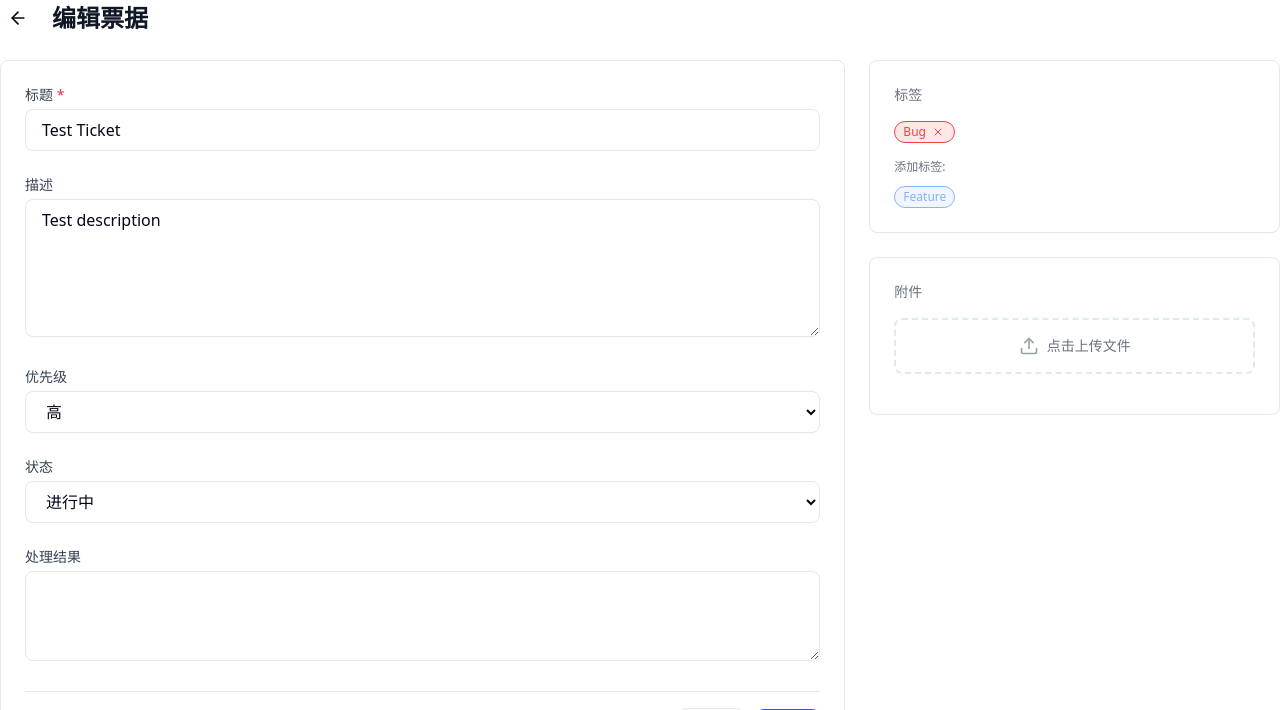
Test: TicketEditPage › enables submit when resolution is provided for completed status
The image size is (1280, 710).
Expected: the field showing "Test Ticket" is shown, 25,109 -> 820,151
Select "已完成" in the dropdown labelled "状态": {"x": 423, "y": 502} 25,481 -> 820,523
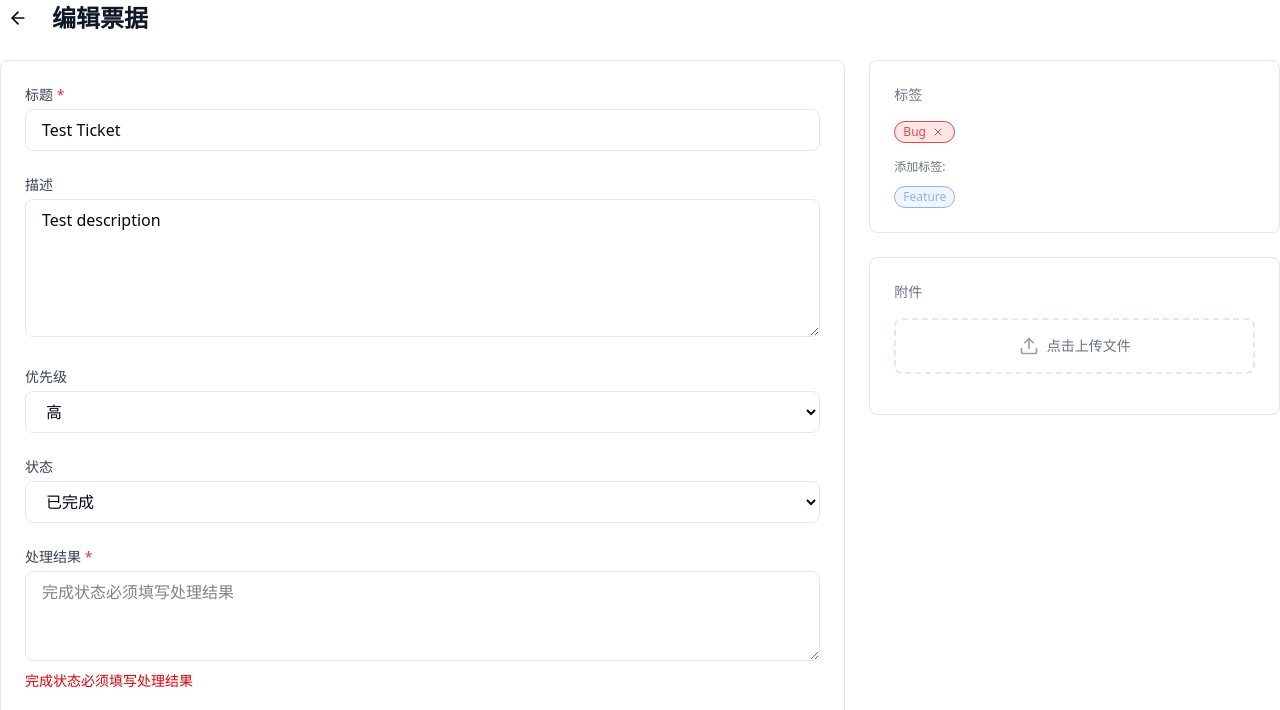
In the text box labelled "处理结果 *": {"x": 423, "y": 616} 25,571 -> 820,661, type "Fixed the issue"
(page scrolled)
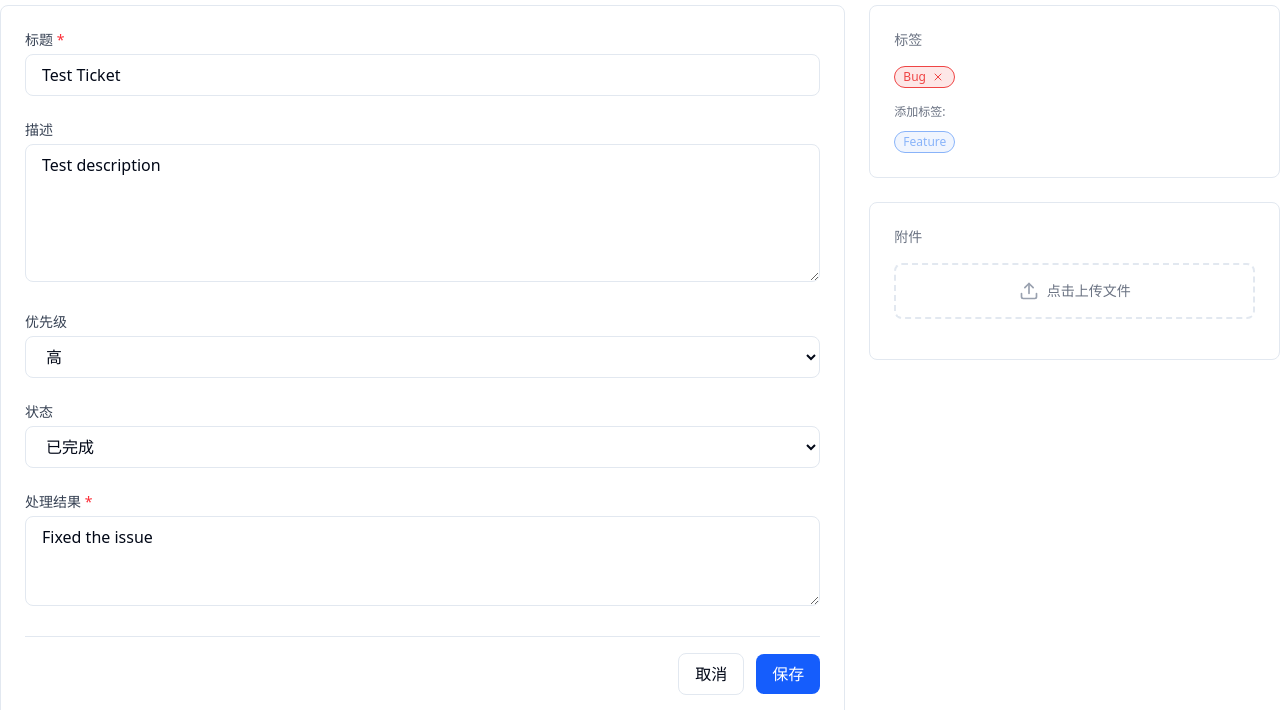
Expected: the button "保存" is enabled, 756,654 -> 820,694
